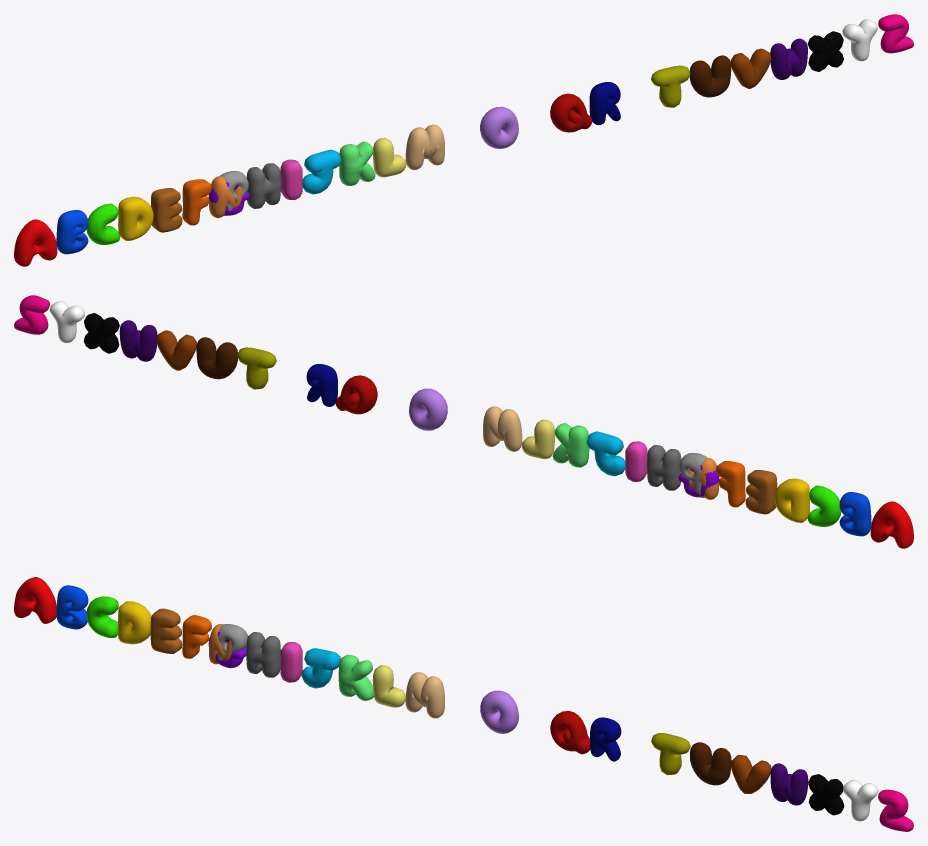
The picture shows the model from 3 angles, top to bottom: view 1: azimuth 30°, elevation 25°; view 2: azimuth 150°, elevation 25°; view 3: azimuth 330°, elevation 25°; orthographic projection.
Visible parts, largest first — view 1: A_0, M_12, U_20, O_13, H_4, D_5, K_10, Q_16, W_22, B_1, J_9, E_3 (+11 smaller); view 2: A_0, M_12, U_20, O_13, H_4, D_5, K_10, Q_16, W_22, B_1, J_9, E_3 (+12 smaller); view 3: A_0, M_12, U_20, H_4, O_13, K_10, Q_16, D_5, E_3, W_22, B_1, J_9 (+11 smaller).
Part boxes in pixels (x1,y1,x2,y2): A_0: (14,219,57,266); M_12: (405,124,444,170); U_20: (689,55,731,97); O_13: (480,106,518,148); H_4: (246,163,281,208); D_5: (118,196,153,240); K_10: (339,141,375,185); Q_16: (550,93,592,132); W_22: (770,38,807,79); B_1: (56,210,88,254); J_9: (302,149,341,194); E_3: (151,188,182,232); A_0: (870,501,913,548); M_12: (483,406,522,451); U_20: (196,337,237,379); O_13: (409,388,447,430); H_4: (646,445,681,490); D_5: (774,478,809,522); K_10: (552,423,589,467); Q_16: (335,375,377,414); W_22: (119,320,157,361); B_1: (839,492,871,536); J_9: (586,431,625,476); E_3: (745,470,777,514); A_0: (14,577,56,623); M_12: (405,672,444,718); U_20: (690,742,731,785); H_4: (246,632,280,677); O_13: (480,690,518,733); K_10: (338,654,373,700); Q_16: (550,711,590,754); D_5: (118,601,151,644); E_3: (150,608,182,653); W_22: (770,763,808,805); B_1: (56,585,88,629); J_9: (301,648,340,688).
Bounding box in the file's own units: 23.11 × 1.03 × 0.5393.
